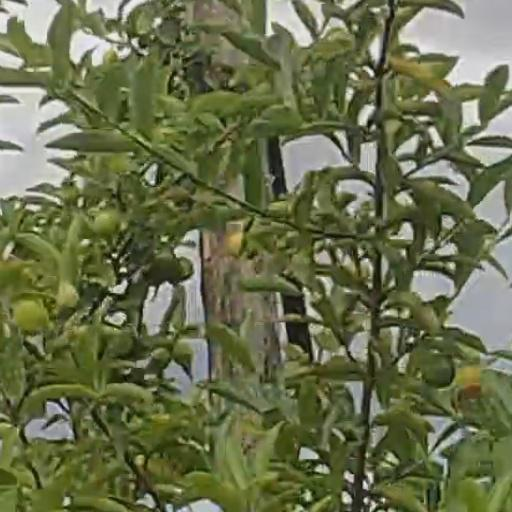acerola: (12, 301, 49, 333), (422, 355, 454, 387)
